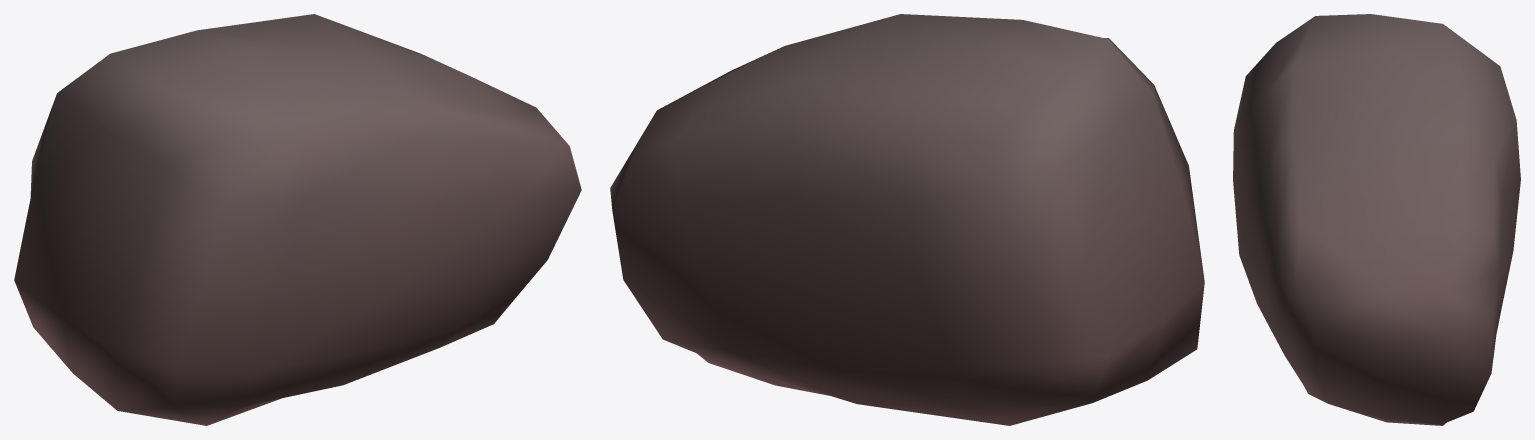
File: ENV_Rock4.fbx
3 views of the same model, side by side, from view 1: azimuth 30°, elevation 25°; view 2: azimuth 150°, elevation 25°; view 3: azimuth 270°, elevation 25° (orthographic). The views are drawn at different scales.
Visible parts, largest first — view 1: Rock4; view 2: Rock4; view 3: Rock4.
Part boxes in pixels (x1,y1,x2,y2): Rock4: [14, 14, 581, 425]; Rock4: [610, 14, 1204, 425]; Rock4: [1233, 14, 1520, 425].
Size of the model in its own units: 21.12 by 13.76 by 12.45.
